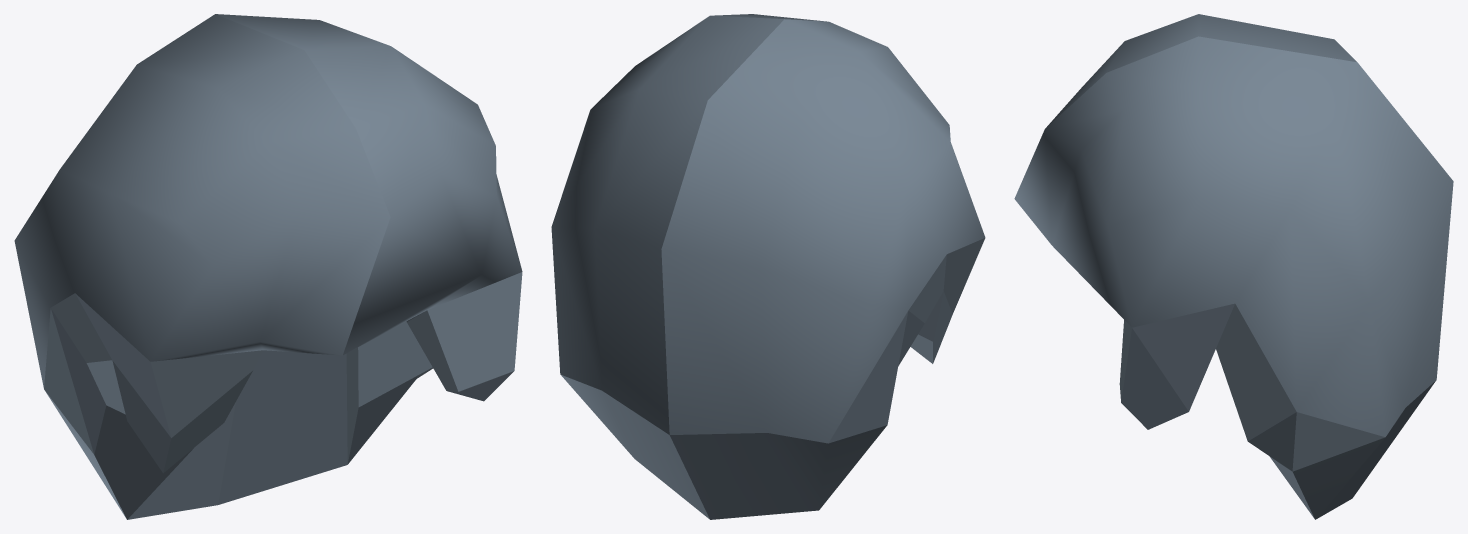
The model's file is HairMediumGrey.fbx.
3 renders of one model, left to right at view 1: azimuth 30°, elevation 25°; view 2: azimuth 150°, elevation 25°; view 3: azimuth 270°, elevation 25°, orthographic. The views are drawn at different scales.
Parts seen in each view (by area): view 1: HairMediumGrey; view 2: HairMediumGrey; view 3: HairMediumGrey.
Part boxes in pixels (box(x1,y1,x2,y2)): HairMediumGrey: box(14, 14, 522, 519); HairMediumGrey: box(551, 14, 985, 519); HairMediumGrey: box(1014, 14, 1453, 519).
Bounding box in the file's own units: 54.2 × 67.38 × 58.05.
